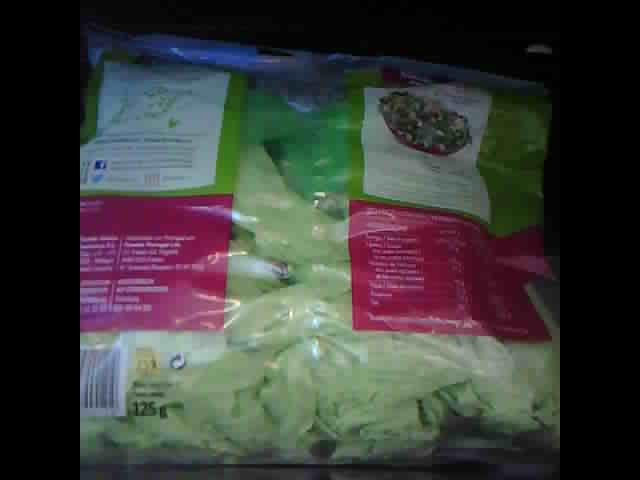florette: (81, 17, 558, 465)
